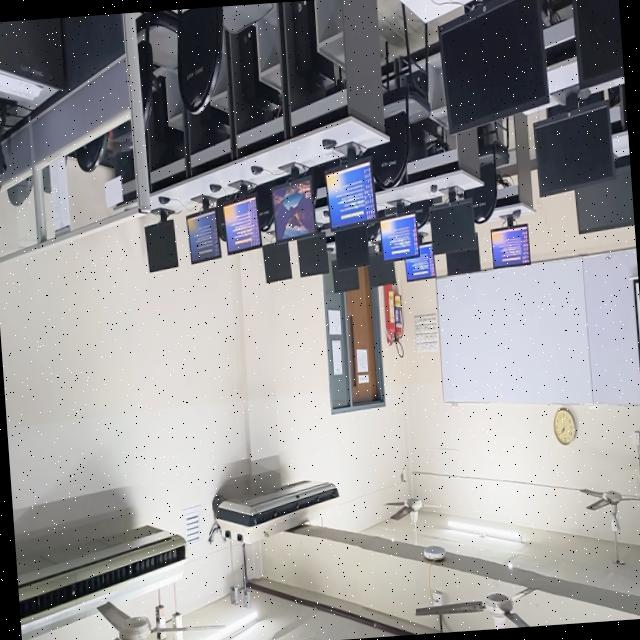Ac: (17, 525, 187, 640), (208, 481, 338, 544)
Chair: (177, 2, 273, 113), (368, 42, 430, 188), (136, 10, 178, 129), (470, 123, 509, 222), (74, 132, 111, 172), (255, 184, 274, 232), (7, 177, 32, 206)
Cpu: (285, 0, 333, 109), (238, 26, 280, 128), (148, 77, 184, 168), (193, 106, 226, 149)
Fire Extinguisher: (384, 285, 404, 357), (383, 285, 395, 346)
Light: (447, 520, 523, 543), (203, 609, 259, 640)
Monitor: (438, 0, 548, 132), (534, 92, 614, 196), (572, 0, 624, 89), (575, 165, 634, 234), (326, 147, 375, 230), (271, 167, 317, 242), (430, 192, 476, 254), (222, 183, 262, 254), (186, 196, 221, 263), (144, 208, 178, 272), (490, 214, 530, 268), (380, 215, 419, 260), (445, 233, 481, 275), (335, 226, 369, 270), (297, 232, 329, 276), (404, 243, 435, 282), (262, 243, 292, 282), (368, 252, 395, 287), (331, 259, 359, 292)
Mouse: (322, 139, 336, 150), (209, 183, 222, 192), (251, 167, 263, 175), (158, 197, 170, 204), (512, 210, 520, 220), (430, 185, 437, 193)
